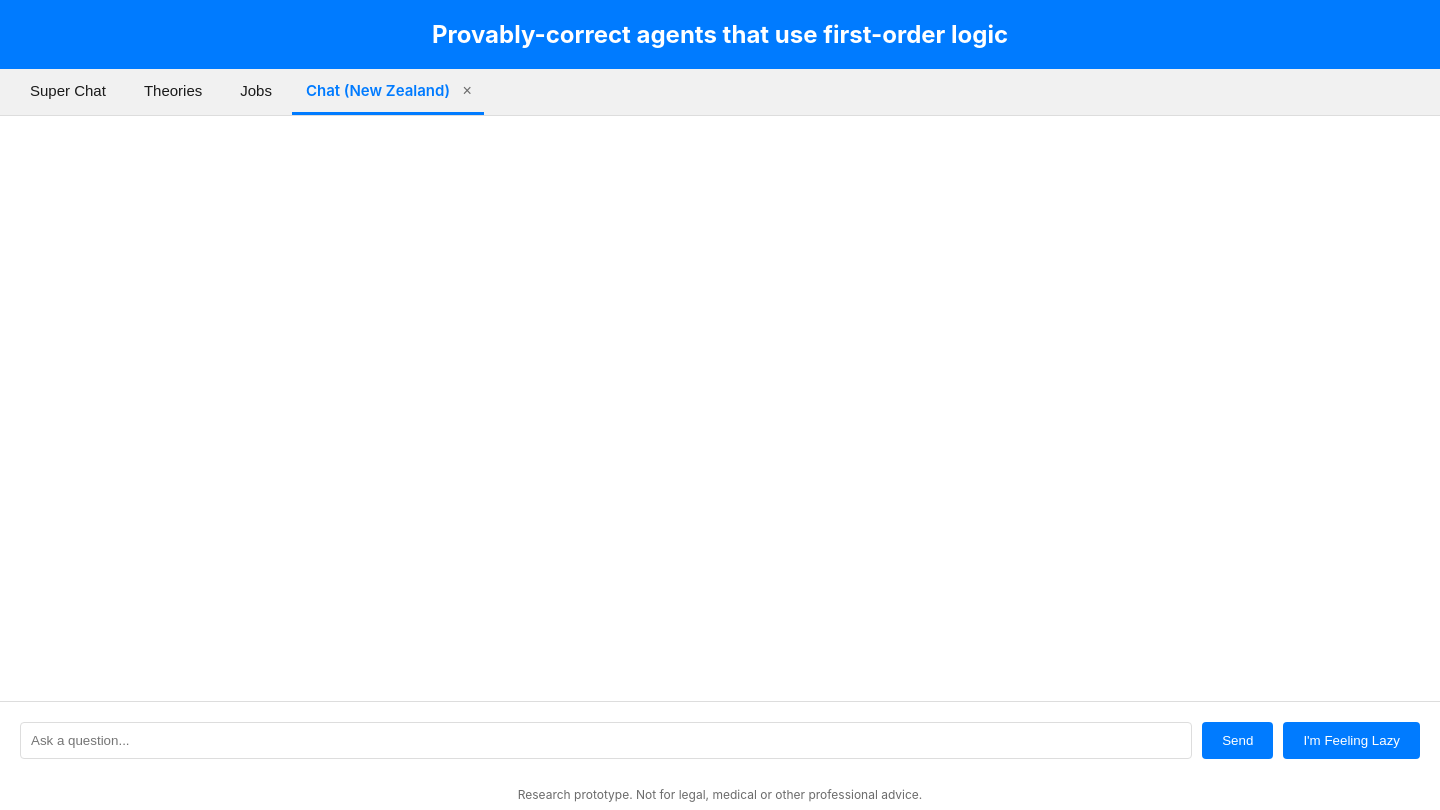
each question and answer flips to its logical form and back
This screenshot has width=1440, height=810.
Type "Which party won?" into the field labelled "Ask a question".
click(606, 740); type("Which party won?")  # box left=20, top=722, right=1192, bottom=759
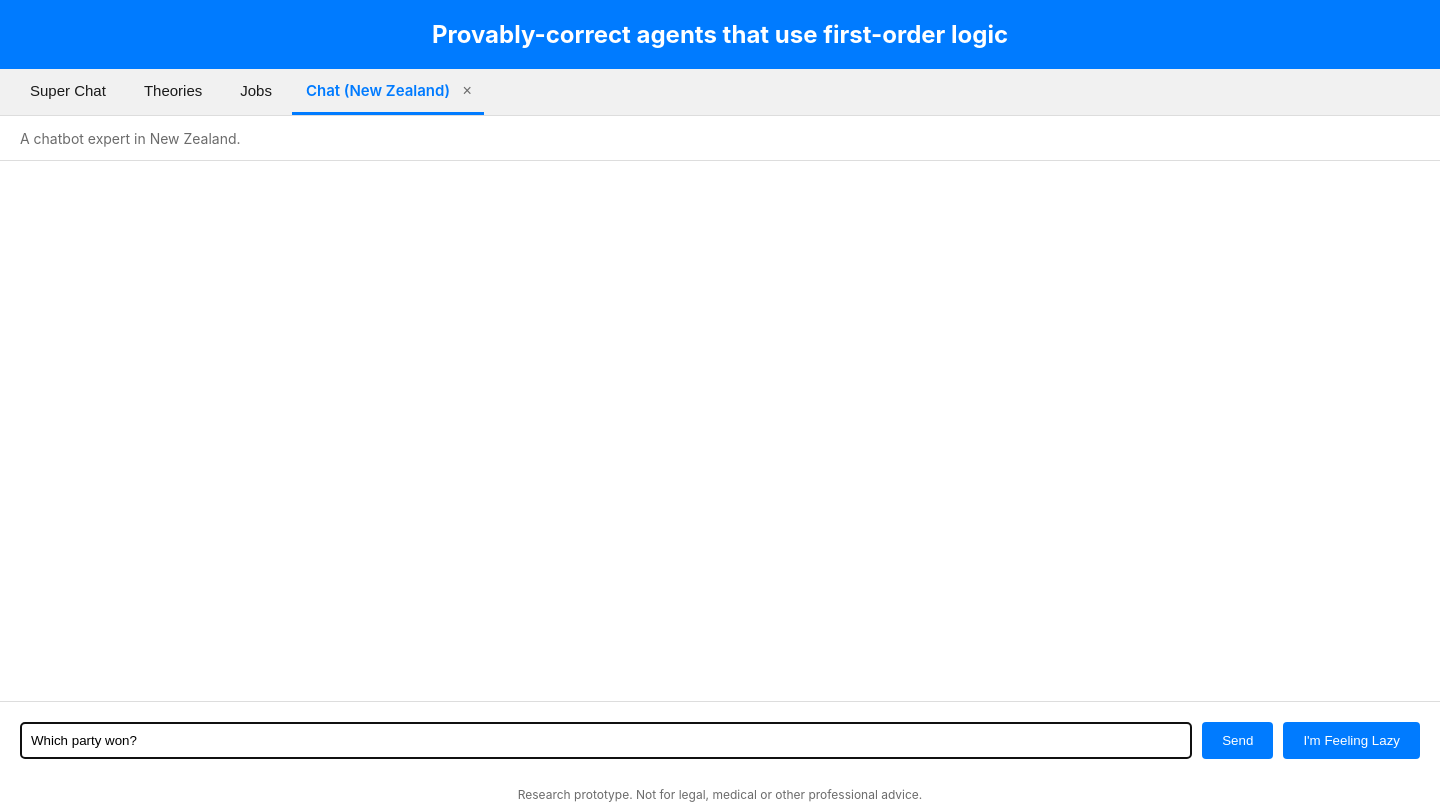
Click the button "Send".
click(1238, 740)  # box left=1202, top=722, right=1273, bottom=759
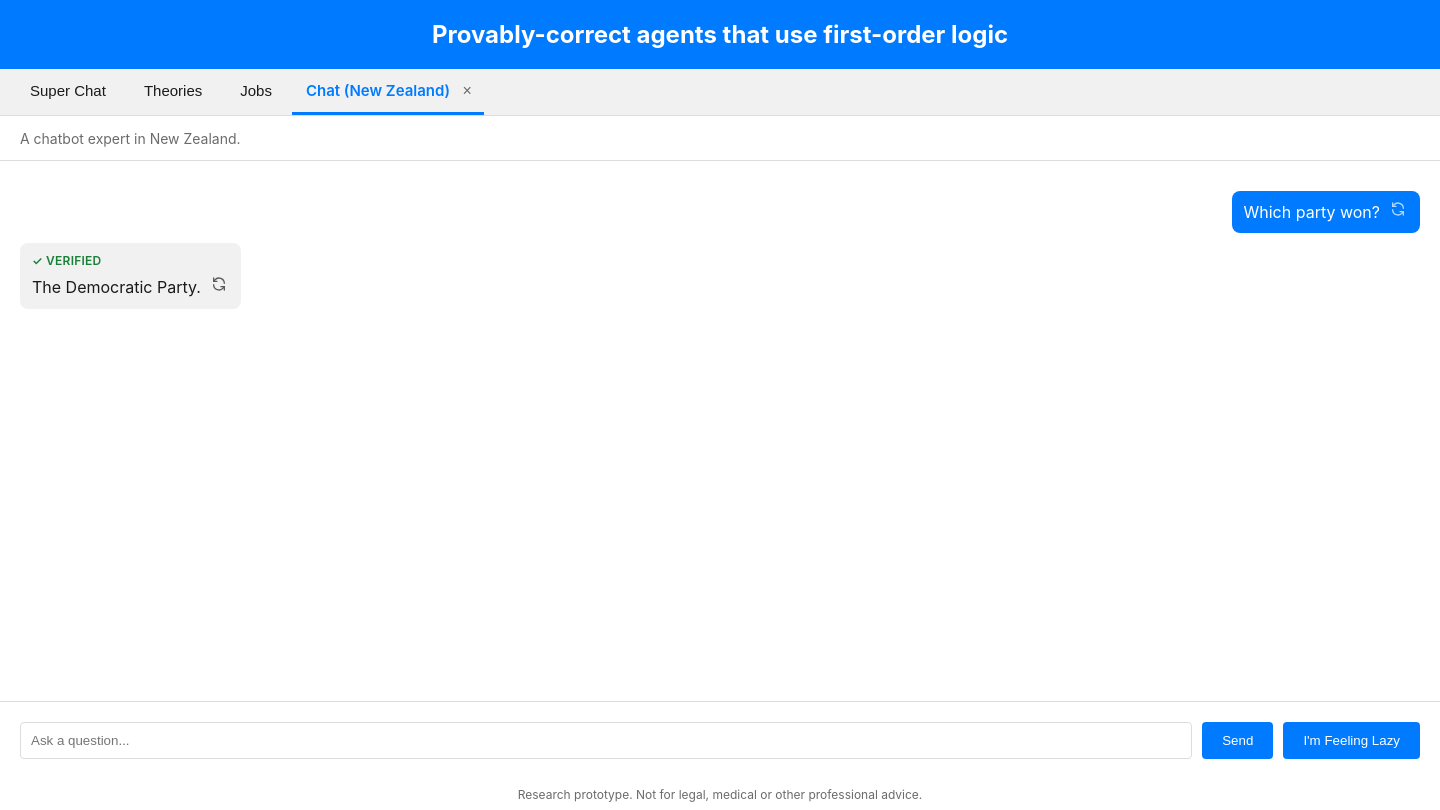
Result: the text "The Democratic Party." is shown at left=32, top=276, right=201, bottom=299
Click the button named "Show logical form" next to "Which party won?".
click(1398, 209)  # box left=1388, top=201, right=1408, bottom=217
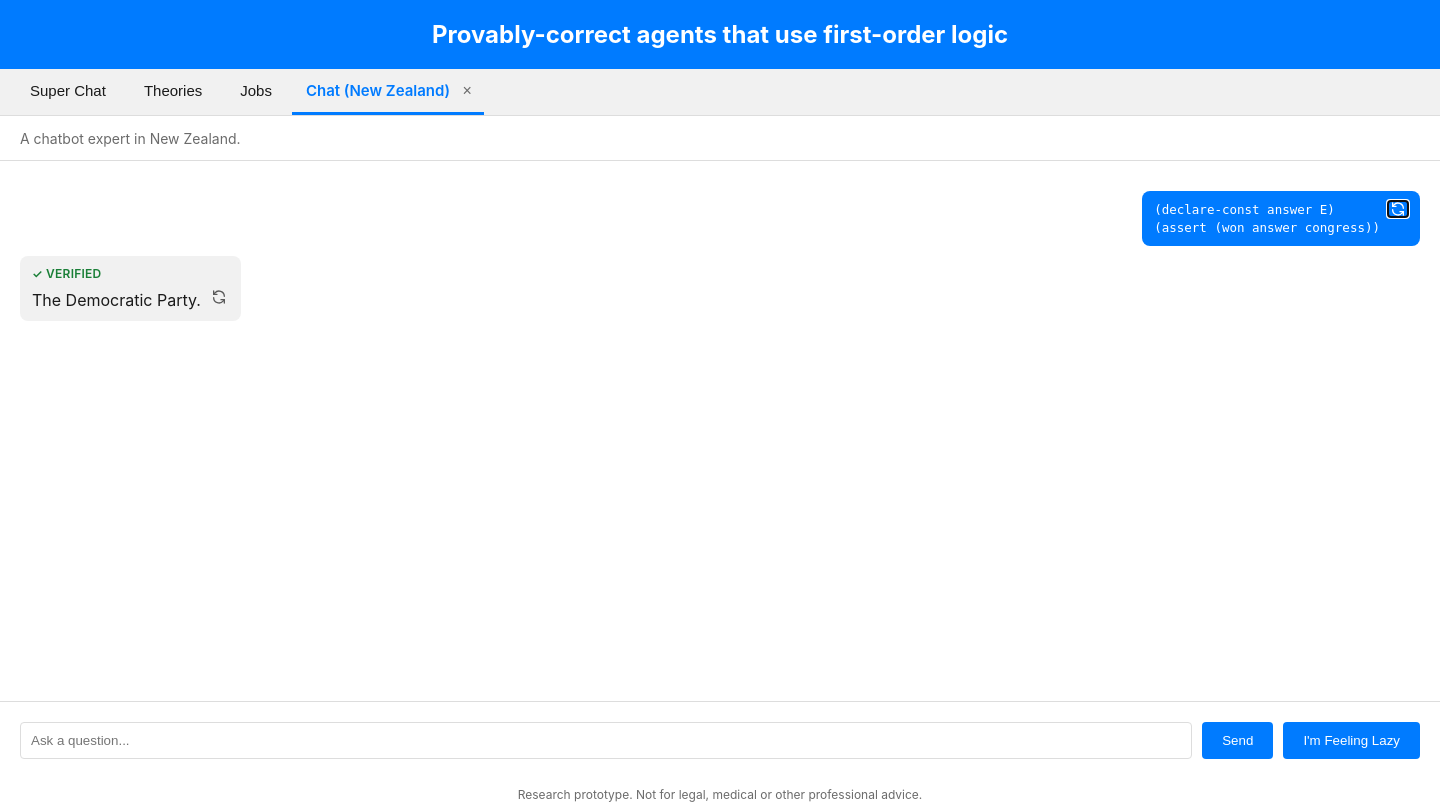
Result: the text "(declare-const answer E) (assert (won answer congress))" is shown at left=1154, top=201, right=1380, bottom=236
Result: the text "Which party won?" is gone
Click the button named "Show logical form".
click(219, 297)  # box left=209, top=289, right=229, bottom=305
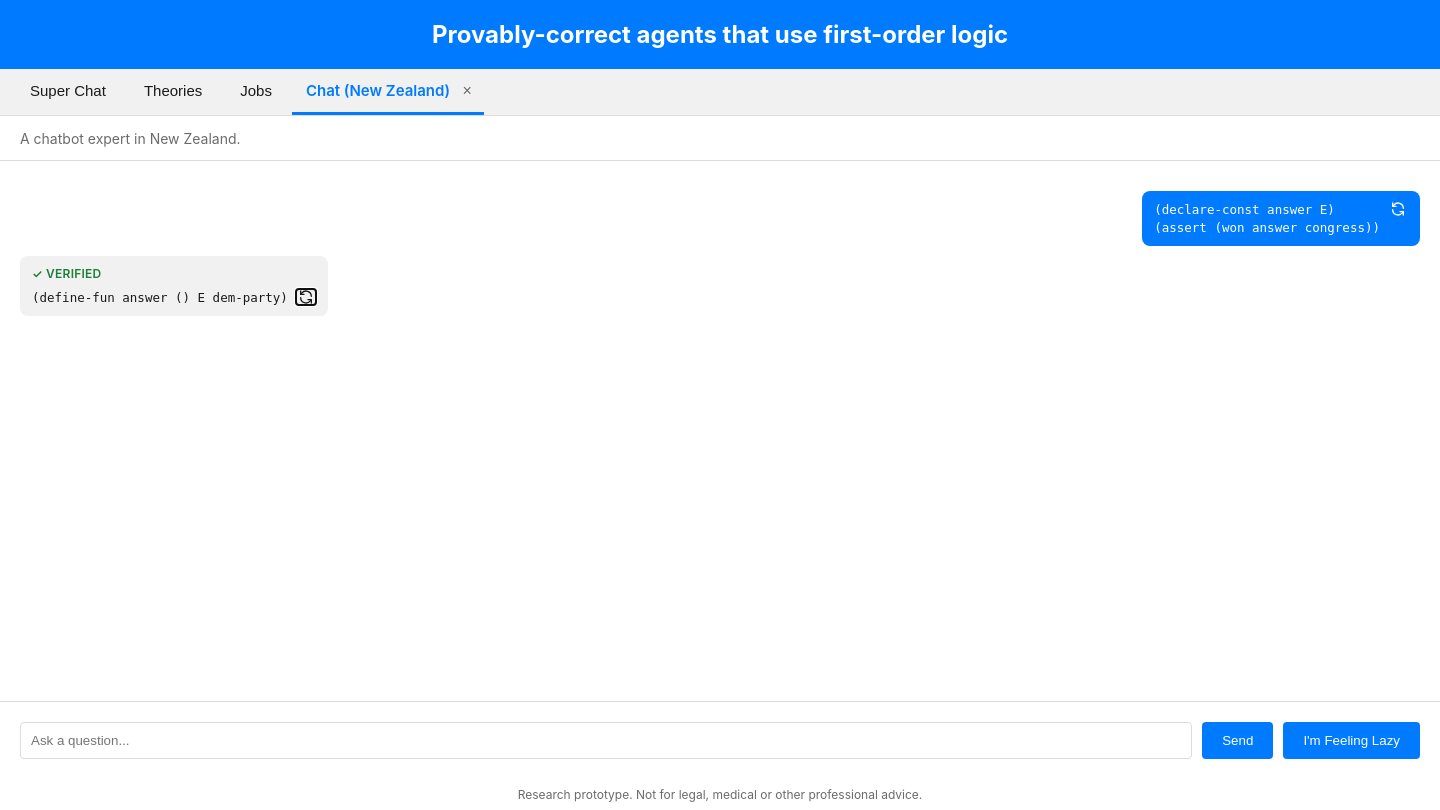
Result: the text "(define-fun answer () E dem-party)" is shown at left=32, top=289, right=288, bottom=306
Click the 1st button named "Show natural language".
click(1398, 209)  # box left=1388, top=201, right=1408, bottom=217
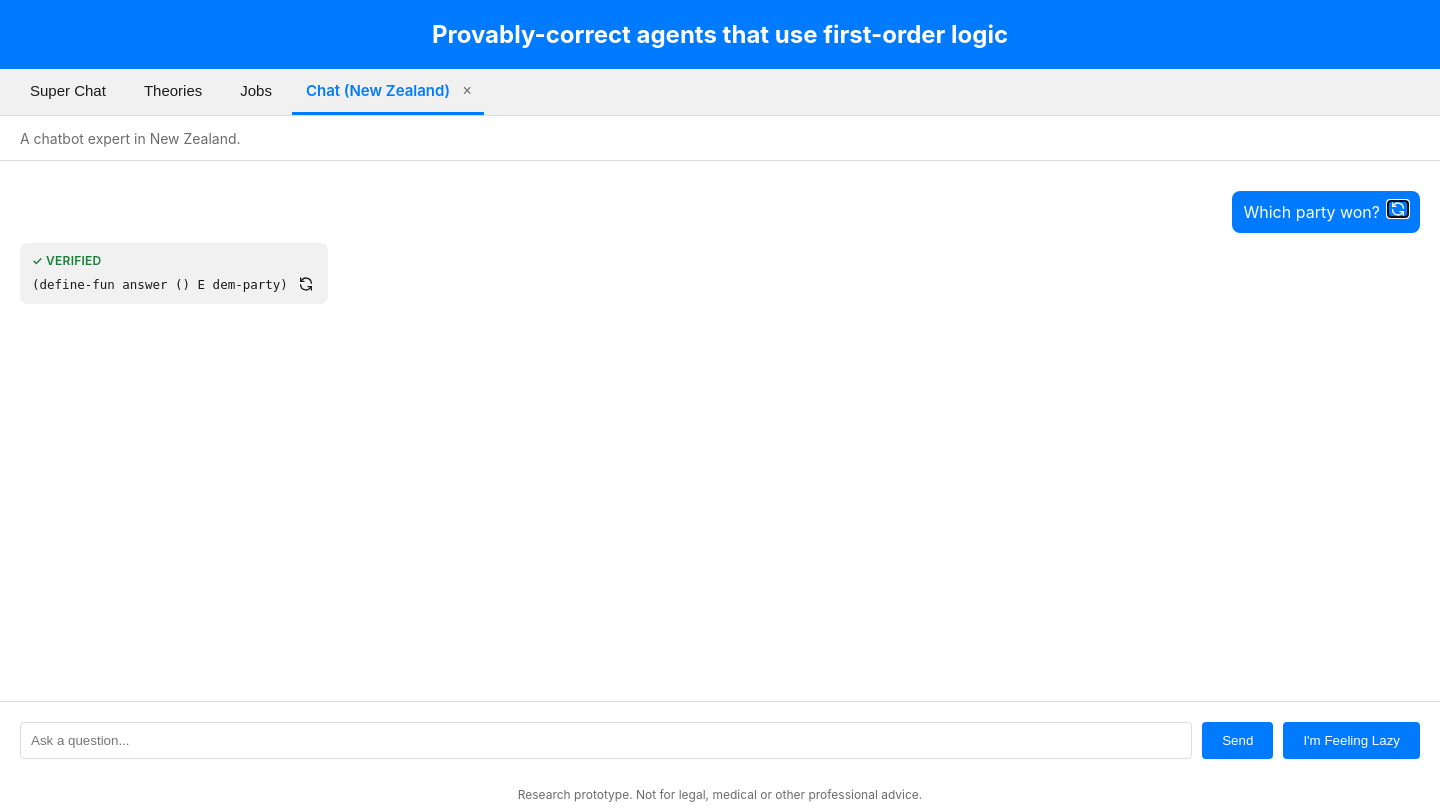
Result: the text "Which party won?" is shown at left=1244, top=201, right=1380, bottom=223
